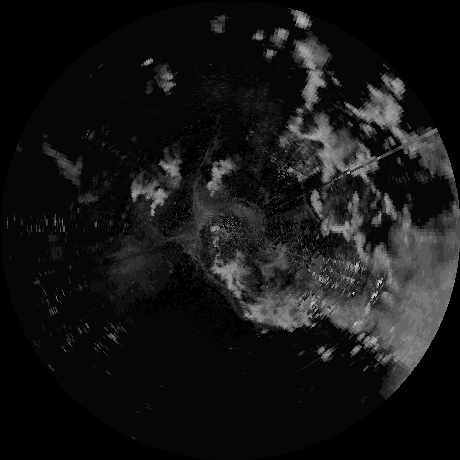frontgust: (192, 145, 214, 199), (196, 259, 231, 290), (301, 192, 320, 226)
